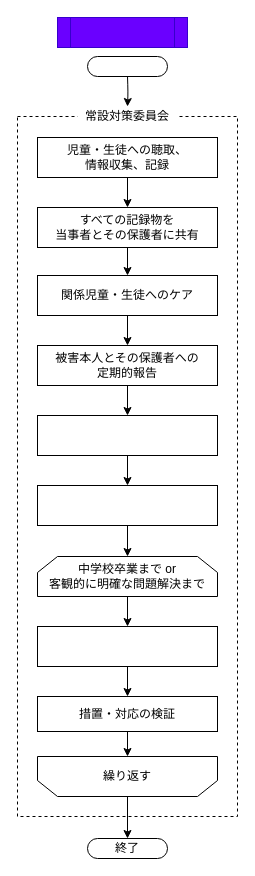
Some shapes in this 255 by 876 pixel diagram are drawn without their labels. The box of each missing label's shape, as (x1, y1, x2, y2) in pixels:
対応案にもとづく措置・対応: (36, 626, 218, 666)
対策委員会主導の いじめ対応: (56, 16, 188, 48)
管理職・担任教諭による 対応案の作成: (36, 414, 218, 456)
被害本人とその保護者と 対応を調整: (36, 484, 218, 526)
開始: (86, 56, 168, 76)
